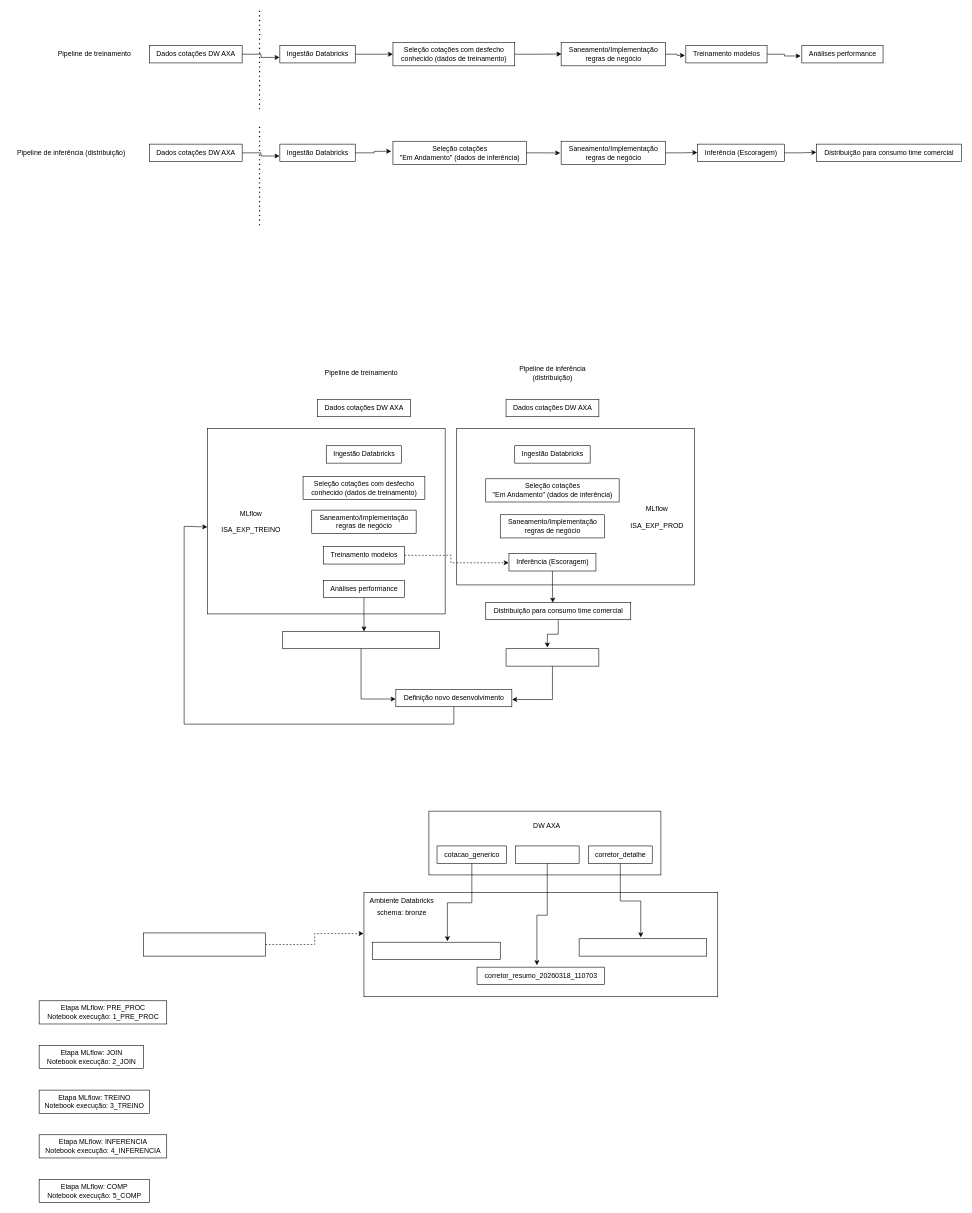
The diagram is 972 pixels wide and 1213 high, and some of its shapes have lost their labels. The shapes that lost their labels are listed below. From the top down, each one's centre as x and y in pixels, then its label:
the point at 360,640: Apresentação resultados agendas executivas
the point at 552,657: Coleta feedbacks usuários
the point at 547,854: corretor_resumo
the point at 204,944: Etapa MLflow: INGESTAO Notebook execução: 0_INGESTAO
the point at 436,951: cotacao_generico_ 20260318_110703
the point at 643,947: corretor_detalhe_ 20260318_110703
